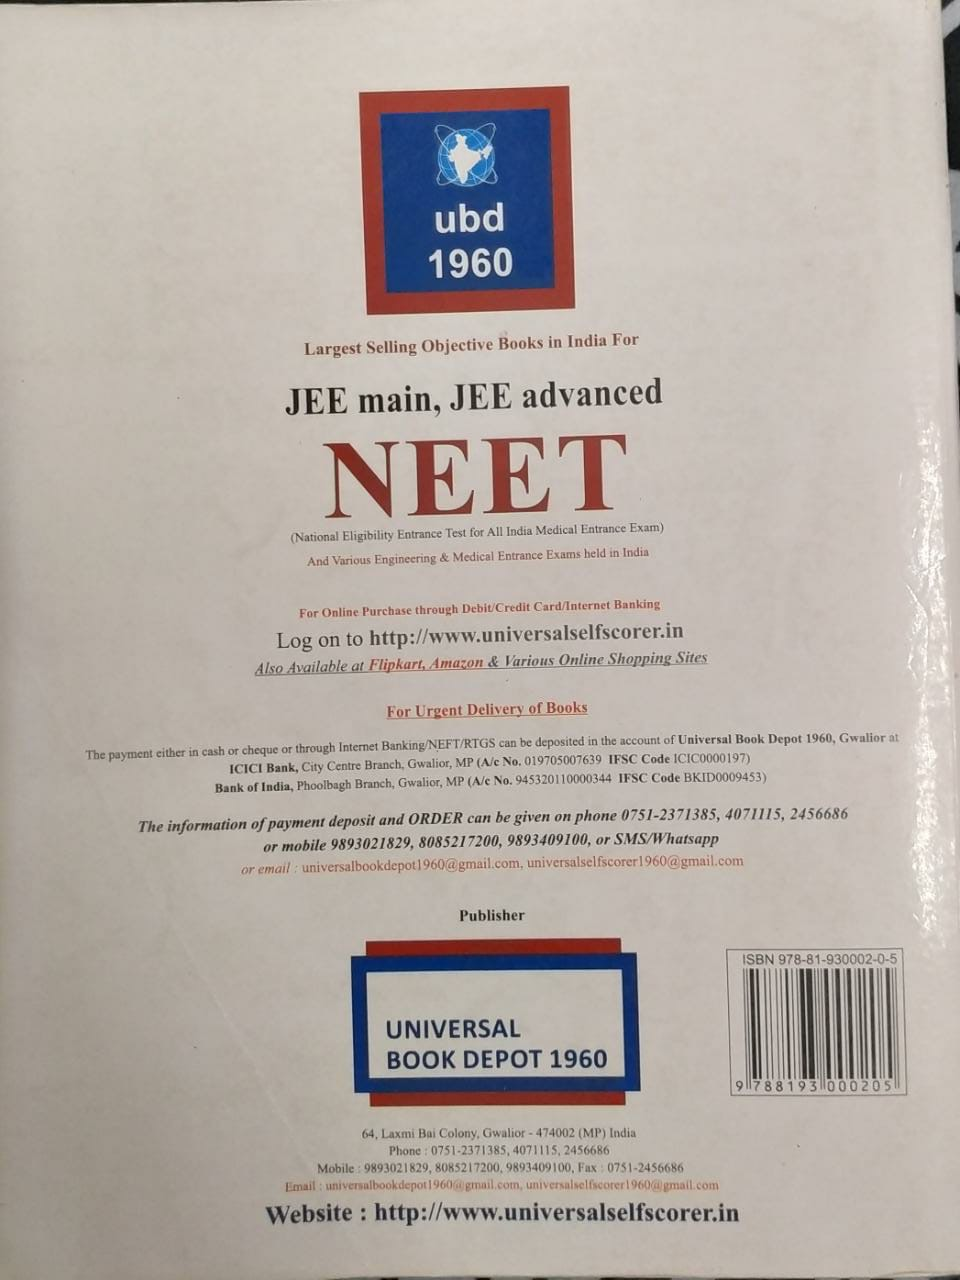barcode: (729, 946, 909, 1095)
